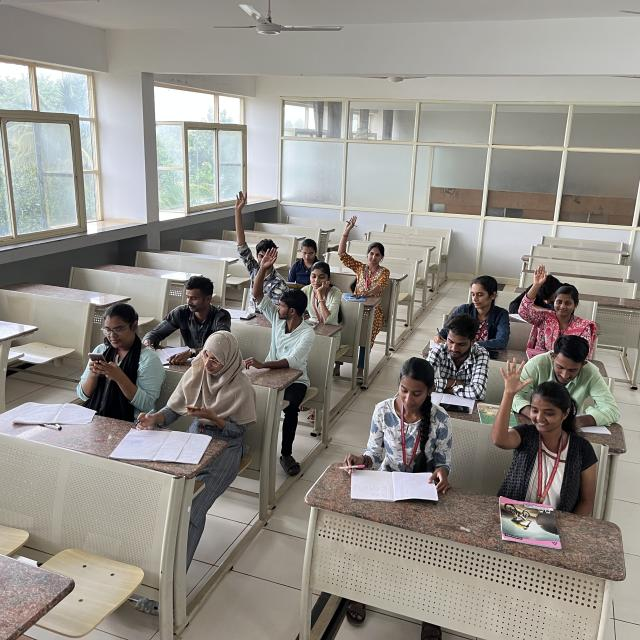Hand Rising: (492, 355, 594, 489), (246, 244, 312, 368), (224, 189, 287, 303), (522, 264, 596, 344), (339, 213, 387, 292)
Reading: (336, 361, 457, 514), (136, 326, 242, 462), (522, 332, 630, 432), (409, 312, 502, 410), (285, 234, 327, 286)
Sleeping: (511, 267, 578, 313)
Using Phone: (76, 308, 162, 394), (296, 262, 349, 340)
Writing: (415, 270, 514, 361), (140, 274, 226, 367)
